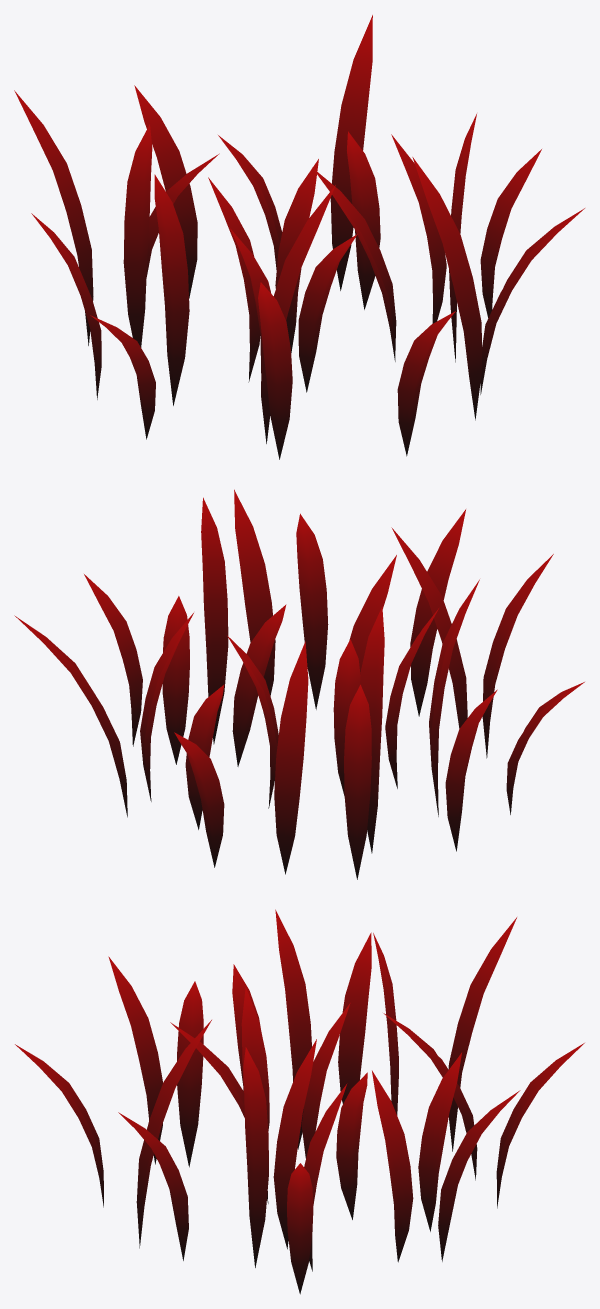
The model's file is grass.fbx.
The picture shows the model from 3 angles, top to bottom: view 1: azimuth 30°, elevation 25°; view 2: azimuth 150°, elevation 25°; view 3: azimuth 270°, elevation 25°; orthographic projection. The views are drawn at different scales.
Visible parts, largest first — view 1: Grass; view 2: Grass; view 3: Grass.
Part boxes in pixels (<box>): Grass: <box>14,15,584,459</box>; Grass: <box>14,489,584,879</box>; Grass: <box>15,909,584,1294</box>.
Bounding box in the file's own units: 2.43 × 1.21 × 2.7.
